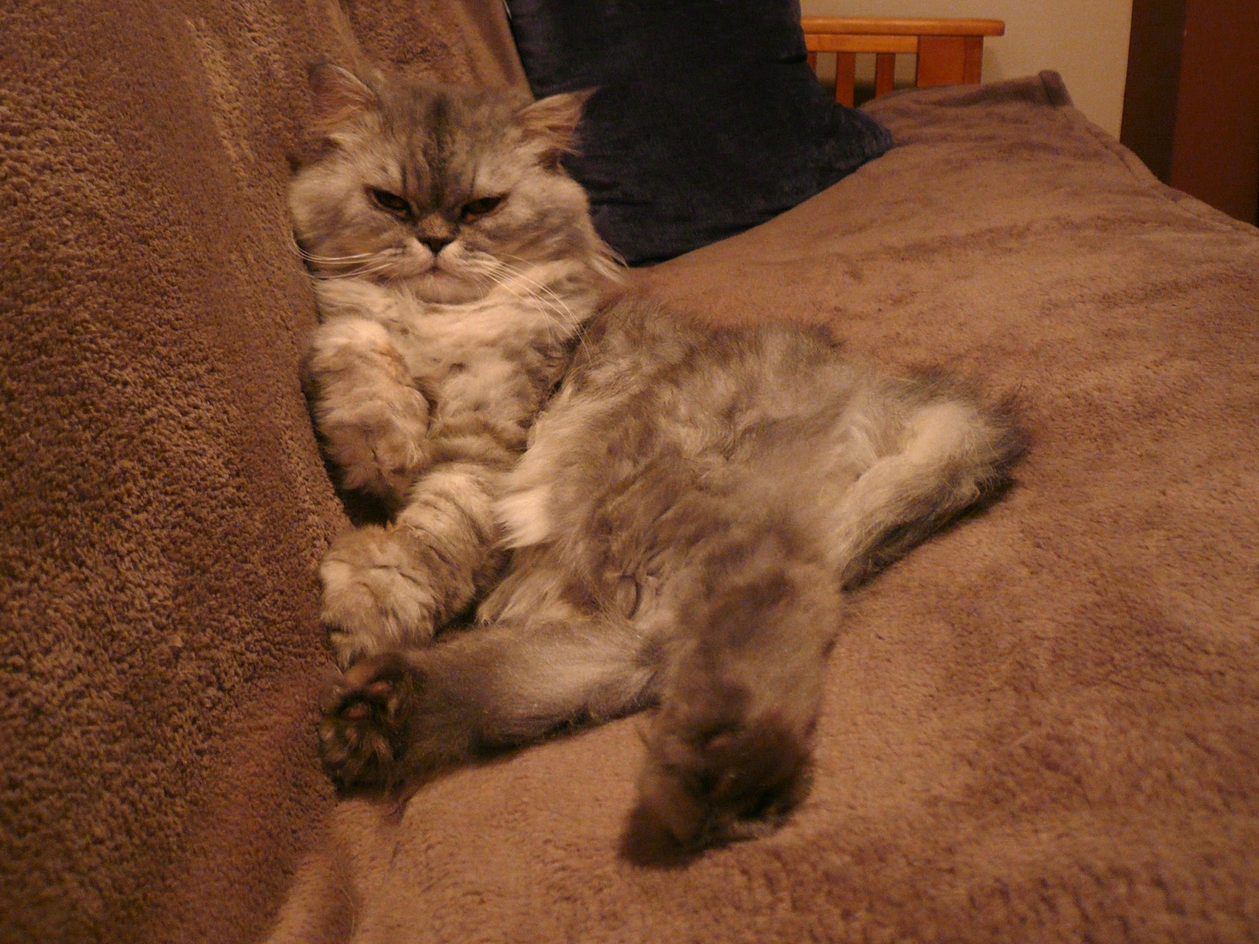cat: (276, 58, 1035, 868)
